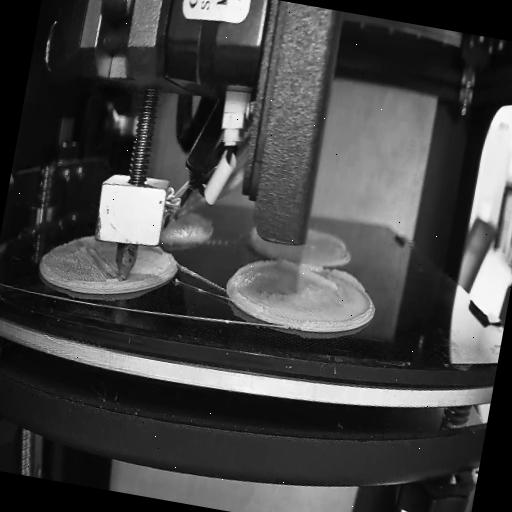over_extrusion: (279, 259, 368, 300), (224, 251, 280, 316)
